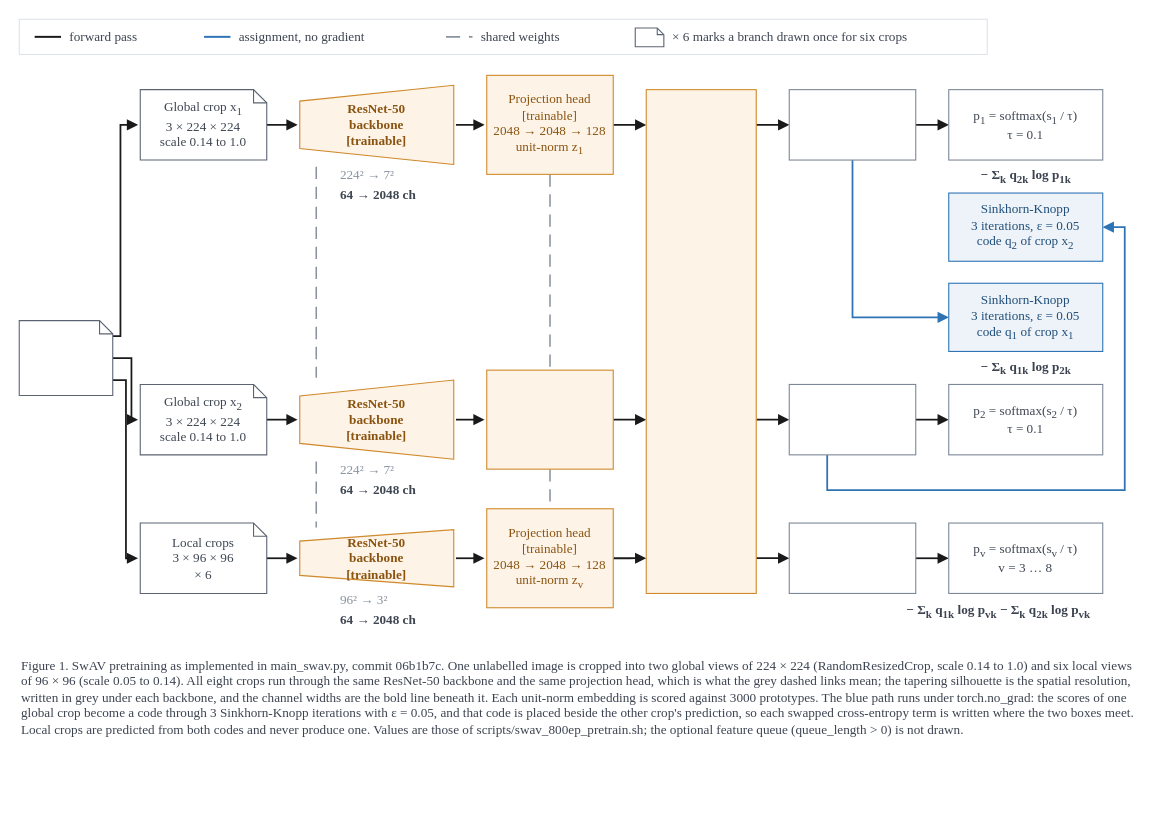
The diagram is 1155 pixels wide and 835 high, and some of its shapes have lost their labels. Each missing label, with the box of its shape:
Projection head [trainable] 2048 → 2048 → 128 unit-norm z 2: (486, 369, 613, 469)
Prototypes C 128 × 3000 [trainable] gradients off first 313 iters: (645, 89, 756, 593)
s 1 = z 1 T C 1 × 3000 scores: (788, 89, 916, 160)
s 2 = z 2 T C 1 × 3000 scores: (788, 383, 916, 455)
s v = z v T C 1 × 3000 scores: (788, 522, 916, 593)
Training image labels unused: (18, 320, 113, 395)
